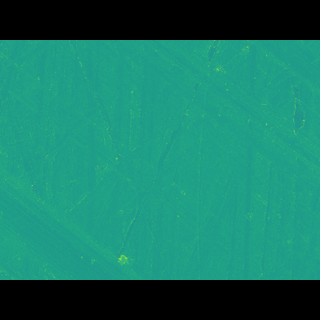Loch: (129, 69, 320, 185), (0, 164, 146, 250)
